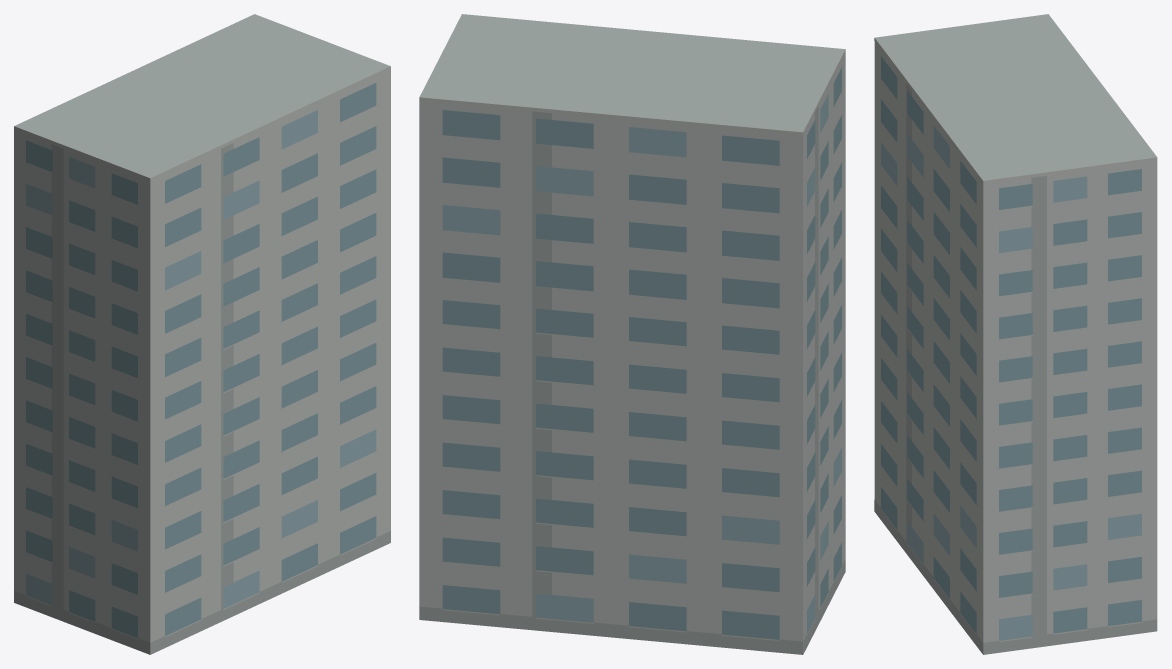
File: residential-e8f54f4b-2916-4117-8b25-1ad034b442af.glb
3 renders of one model, left to right at view 1: azimuth 30°, elevation 25°; view 2: azimuth 150°, elevation 25°; view 3: azimuth 270°, elevation 25°, orthographic. The views are drawn at different scales.
Parts seen in each view (by area): view 1: residential-e8f54f4b-2916-4117-8b25-1ad034b442af.tmp; view 2: residential-e8f54f4b-2916-4117-8b25-1ad034b442af.tmp; view 3: residential-e8f54f4b-2916-4117-8b25-1ad034b442af.tmp.
Part boxes in pixels (x1,y1,x2,y2): residential-e8f54f4b-2916-4117-8b25-1ad034b442af.tmp: (14, 14, 390, 654); residential-e8f54f4b-2916-4117-8b25-1ad034b442af.tmp: (419, 14, 845, 654); residential-e8f54f4b-2916-4117-8b25-1ad034b442af.tmp: (874, 14, 1157, 654).
Bounding box in the file's own units: 25.69 × 34 × 18.4.
